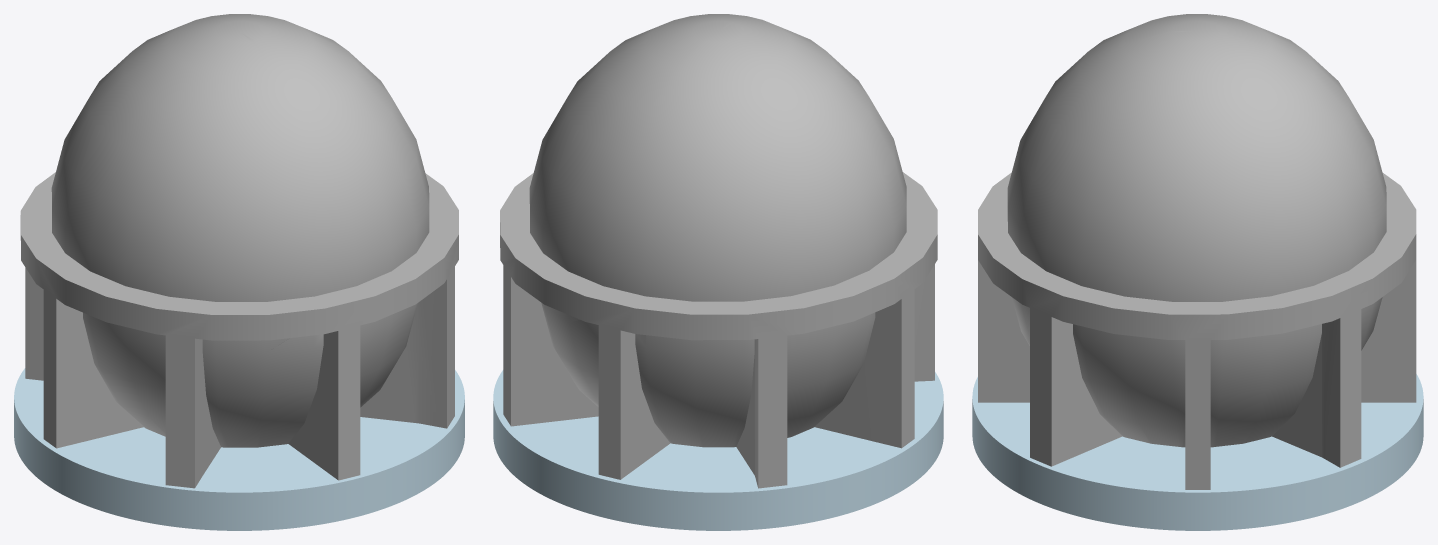
File: WHITE.gltf
3 views of the same model, side by side, from view 1: azimuth 30°, elevation 25°; view 2: azimuth 150°, elevation 25°; view 3: azimuth 270°, elevation 25° (orthographic).
Parts seen in each view (by area): view 1: Part 2, Part 1; view 2: Part 2, Part 1; view 3: Part 2, Part 1.
Part boxes in pixels (box(x1,y1,x2,y2)): Part 2: box(20, 14, 458, 488); Part 1: box(14, 368, 464, 530); Part 2: box(500, 14, 937, 488); Part 1: box(493, 370, 943, 530); Part 2: box(978, 14, 1416, 489); Part 1: box(972, 374, 1423, 530).
Bounding box in the file's own units: 0.032 × 0.0316 × 0.032.
